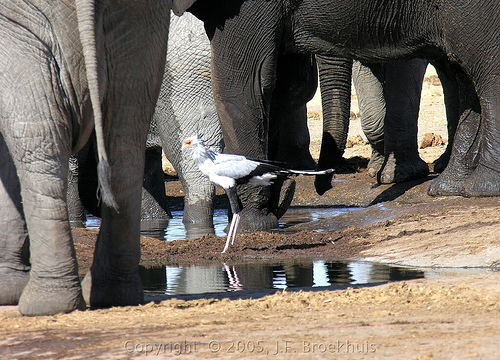elephant: (171, 1, 498, 241), (1, 1, 168, 318)
